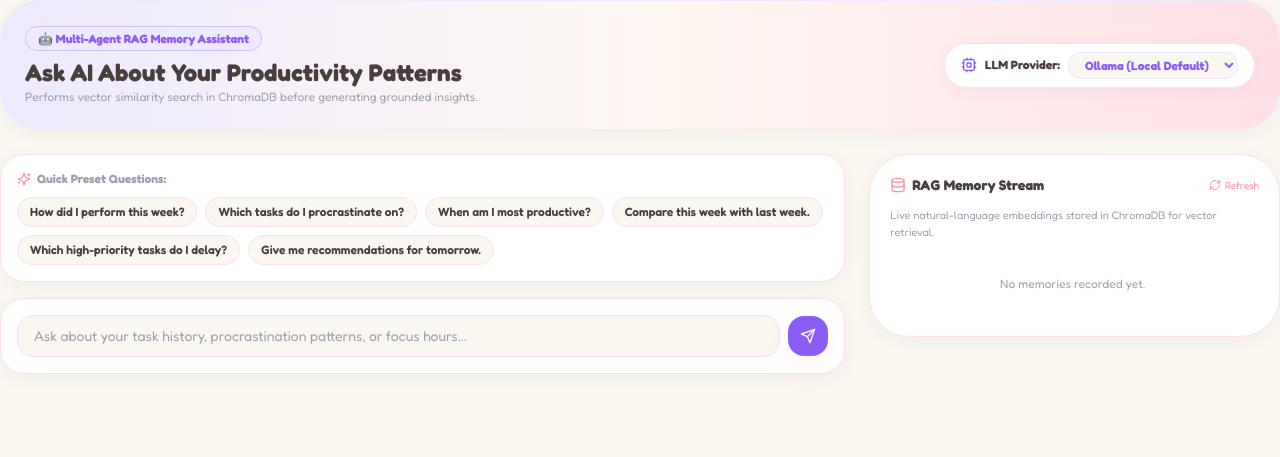
it: AIAssistant › shows error message when the query fails
Replace the text in the field with placeholder "Ask about your task history" with "hello" at (399, 336), box [17,315,780,357]
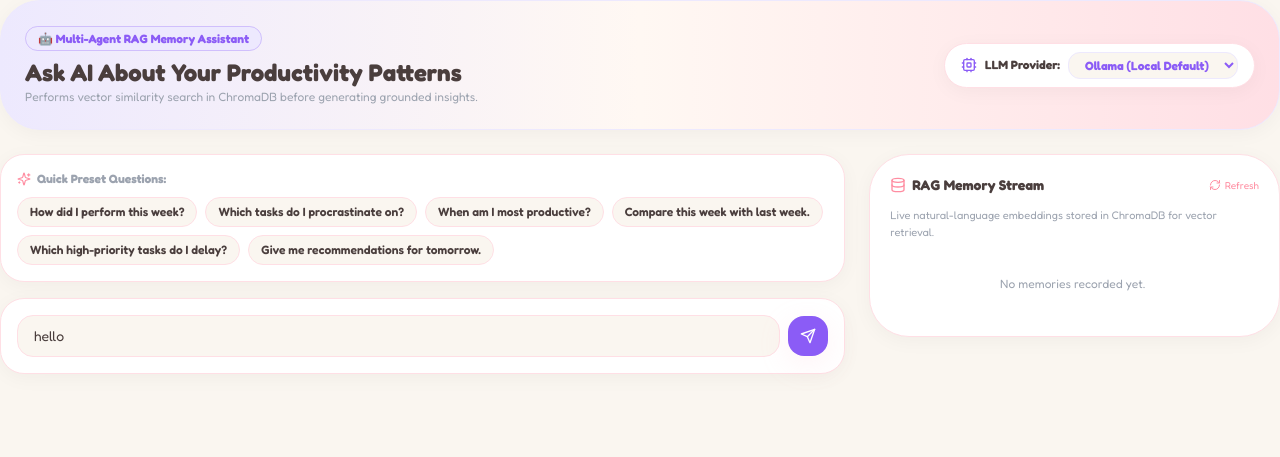
Press Enter in the field with placeholder "Ask about your task history", box [17,315,780,357]
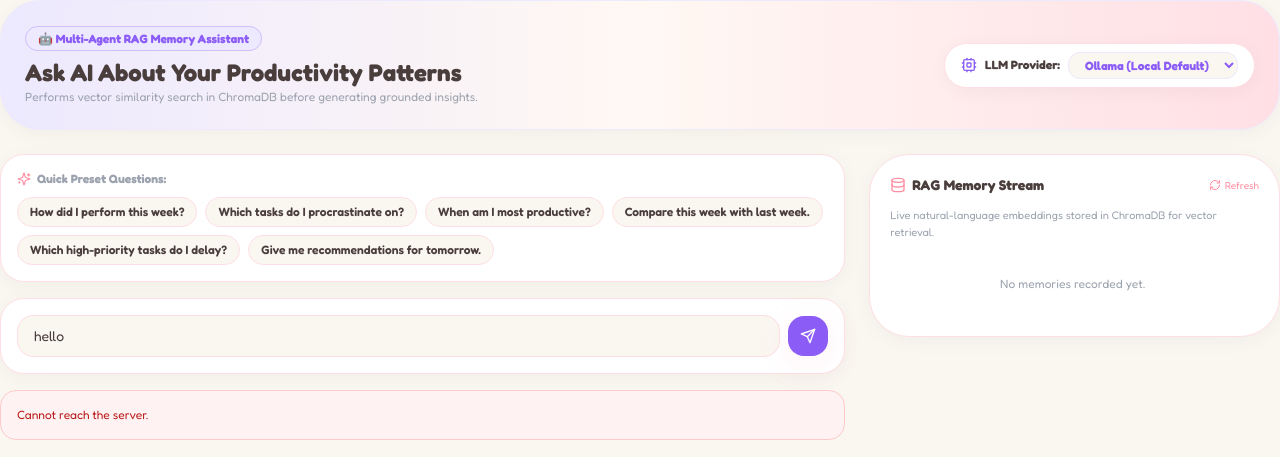
Now the text "Cannot reach the server." is shown, box [0,390,845,440]
